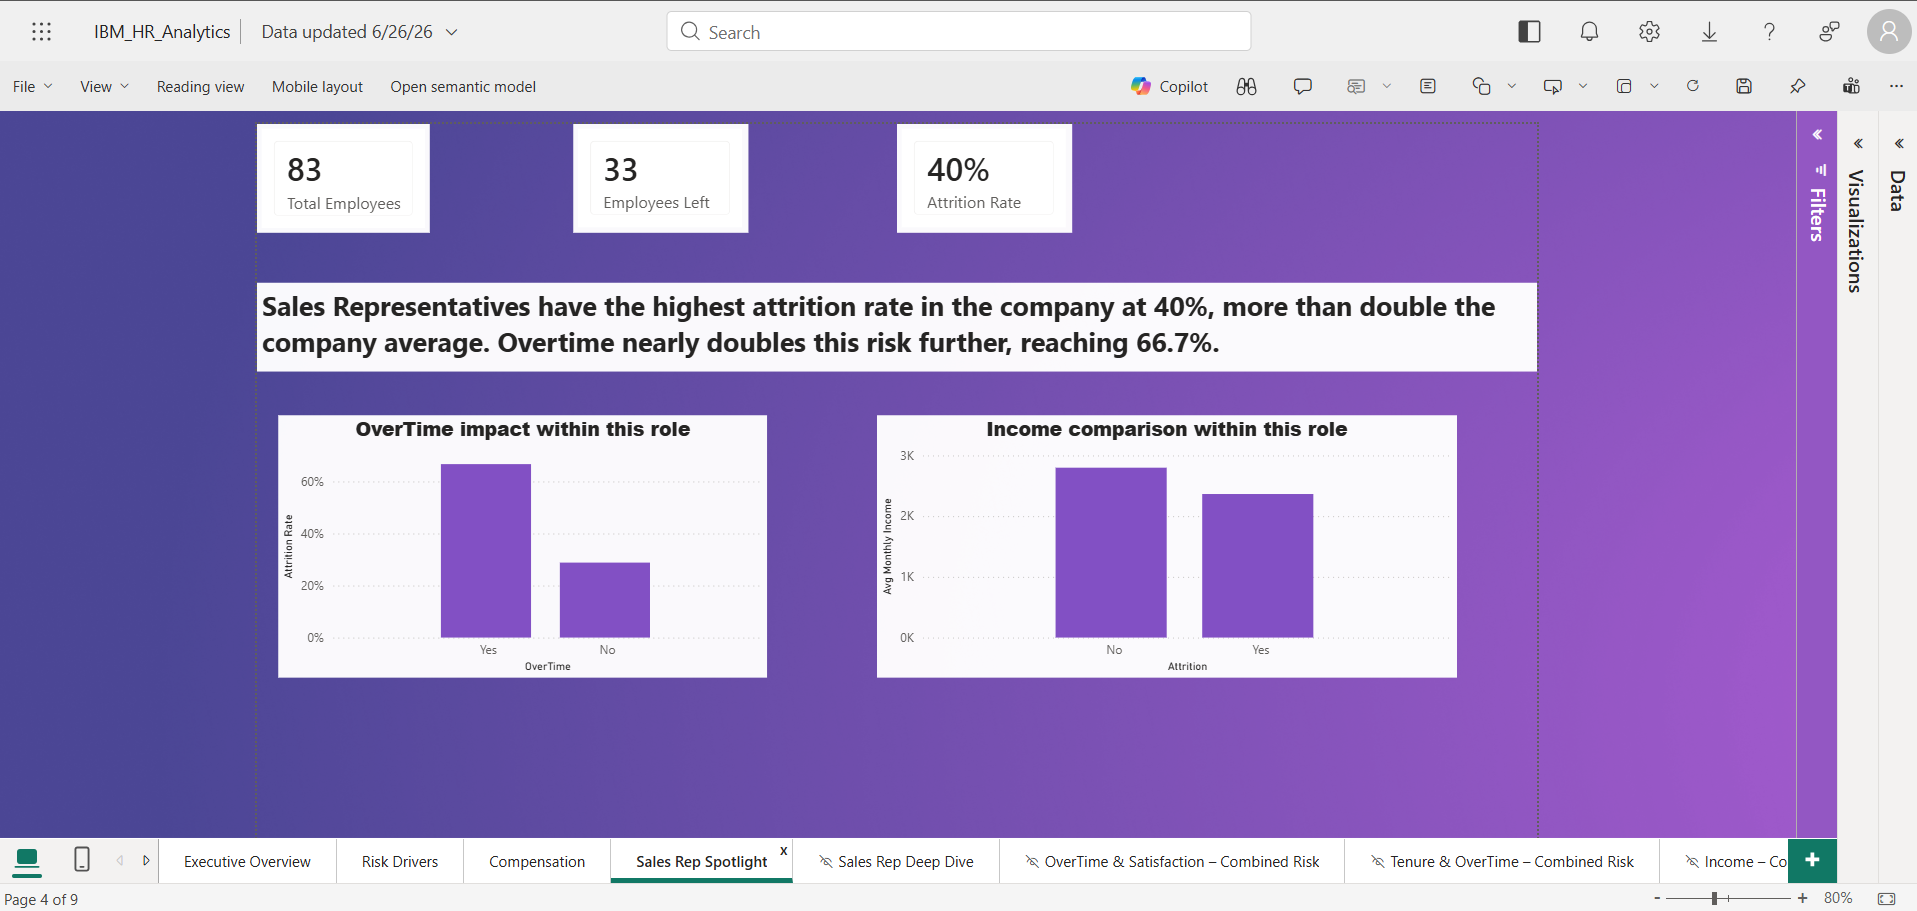

The dashboard page shown, as its layout file describes it:
{"tool":"powerbi","page":{"name":"Sales Rep Spotlight","canvas":[1280,720],"ordinal":3},"visuals":[{"type":"cardVisual","fields":{"Data":["Employee Attrition.Total Employees"]},"box":[0,0,173,109],"z":0},{"type":"cardVisual","fields":{"Data":["Employee Attrition.Total Left"]},"box":[315.7,0,174.9,108.5],"z":1000},{"type":"cardVisual","fields":{"Data":["Employee Attrition.Attrition Rate"]},"box":[639.6,0,174.9,108.5],"z":2000},{"type":"clusteredColumnChart","title":"OverTime impact within this role","fields":{"Category":["Employee Attrition.OverTime"],"Y":["Employee Attrition.Attrition Rate"]},"box":[21,291.5,489,262.3],"z":2001},{"type":"clusteredColumnChart","title":"Income comparison within this role","fields":{"Category":["Employee Attrition.Attrition"],"Y":["Employee Attrition.Avg Monthly Income"]},"box":[620.2,291.5,579.7,262.3],"z":2002},{"type":"textbox","box":[0,158.7,1280,89.1],"z":2003}]}

Visuals, with their boxes on the page's 1280x720 design canvas (x1, y1, x2, y2). These are canvas units, not pixel positions in the 1917x911 screenshot, which may show the page scaled, cropped or inside an application window:
cardVisual - Employee Attrition.Total Employees: select_region(0, 0, 173, 109)
cardVisual - Employee Attrition.Total Left: select_region(316, 0, 491, 108)
cardVisual - Employee Attrition.Attrition Rate: select_region(640, 0, 814, 108)
"OverTime impact within this role" clusteredColumnChart: select_region(21, 292, 510, 554)
"Income comparison within this role" clusteredColumnChart: select_region(620, 292, 1200, 554)
textbox: select_region(0, 159, 1280, 248)
